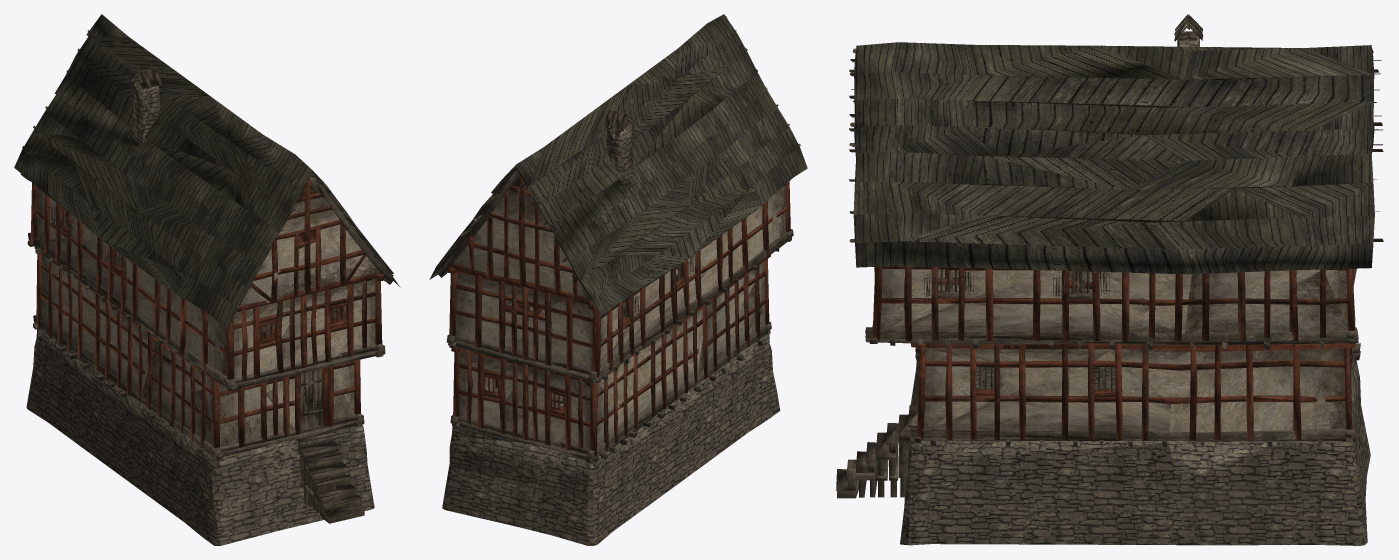
The model's file is eng_house_2.glb.
3 renders of one model, left to right at view 1: azimuth 30°, elevation 25°; view 2: azimuth 150°, elevation 25°; view 3: azimuth 270°, elevation 25°, orthographic. The views are drawn at different scales.
Visible parts, largest first — view 1: eng_house_2; view 2: eng_house_2; view 3: eng_house_2.
Boxes of the visible parts, x1,y1,x2,y2 form: eng_house_2: (14,14,400,545); eng_house_2: (429,14,807,545); eng_house_2: (836,14,1383,545).
Size of the model in its own units: 6.95 by 14.07 by 15.17.
6 materials, 6 textured.
